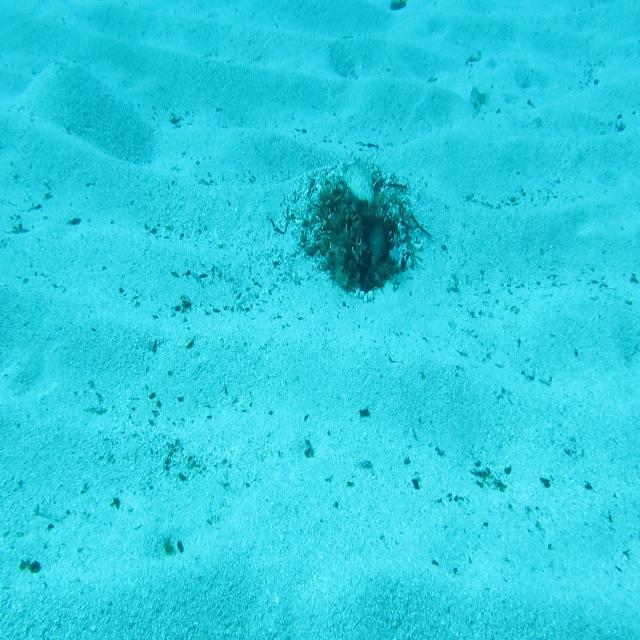ROLL: (341, 156, 376, 215)
female: (467, 83, 492, 120)
nest: (293, 153, 431, 306)
